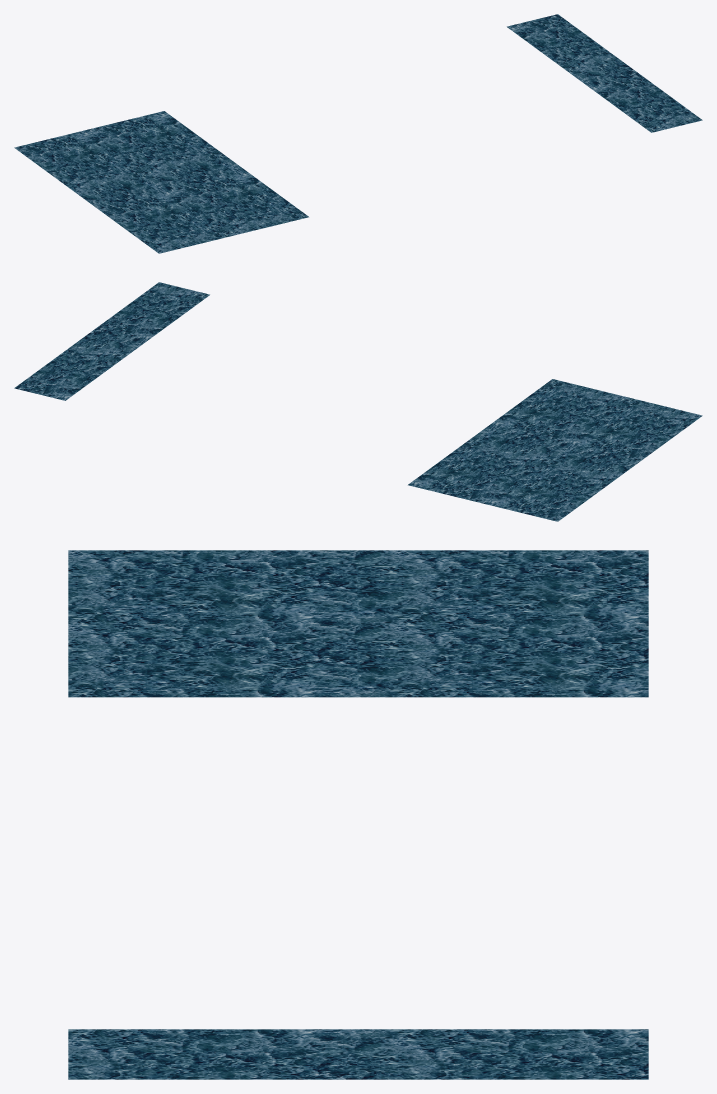
Rendered from sea01.FBX.
3 views of the same model, one above another, from view 1: azimuth 30°, elevation 25°; view 2: azimuth 150°, elevation 25°; view 3: azimuth 270°, elevation 25° (orthographic). The views are drawn at different scales.
Parts seen in each view (by area): view 1: sea01; view 2: sea01; view 3: sea01.
Boxes of the visible parts, <box> form: sea01: <box>14,14,702,253</box>; sea01: <box>14,282,702,521</box>; sea01: <box>68,550,648,1079</box>.
Size of the model in its own units: 35698 by 49.28 by 16493.
